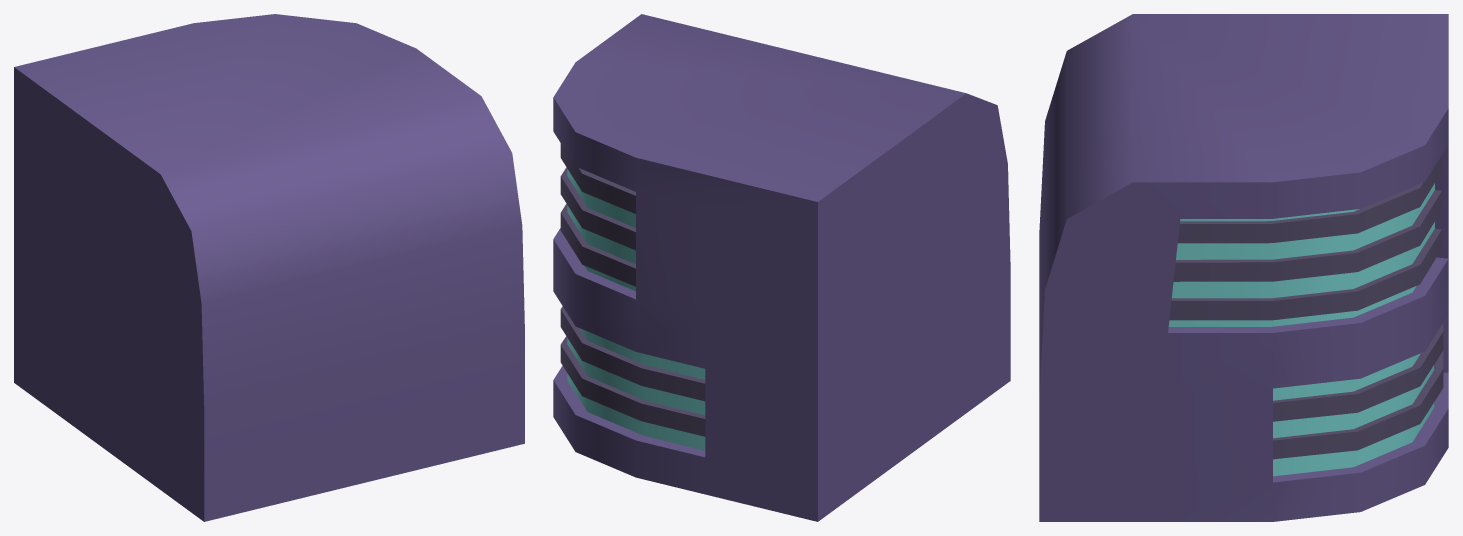
The model's file is NorthWest_House_06.fbx.
3 renders of one model, left to right at view 1: azimuth 30°, elevation 25°; view 2: azimuth 150°, elevation 25°; view 3: azimuth 270°, elevation 25°, orthographic. The views are drawn at different scales.
Visible parts, largest first — view 1: NorthWest_House_06; view 2: NorthWest_House_06; view 3: NorthWest_House_06.
Part boxes in pixels (left/top/right/bottom): NorthWest_House_06: left=14, top=14, right=524, bottom=521; NorthWest_House_06: left=553, top=14, right=1010, bottom=521; NorthWest_House_06: left=1039, top=14, right=1448, bottom=521.
Size of the model in its own units: 14.18 by 13.34 by 14.56.
Materials: 1 (1 with a texture image).
